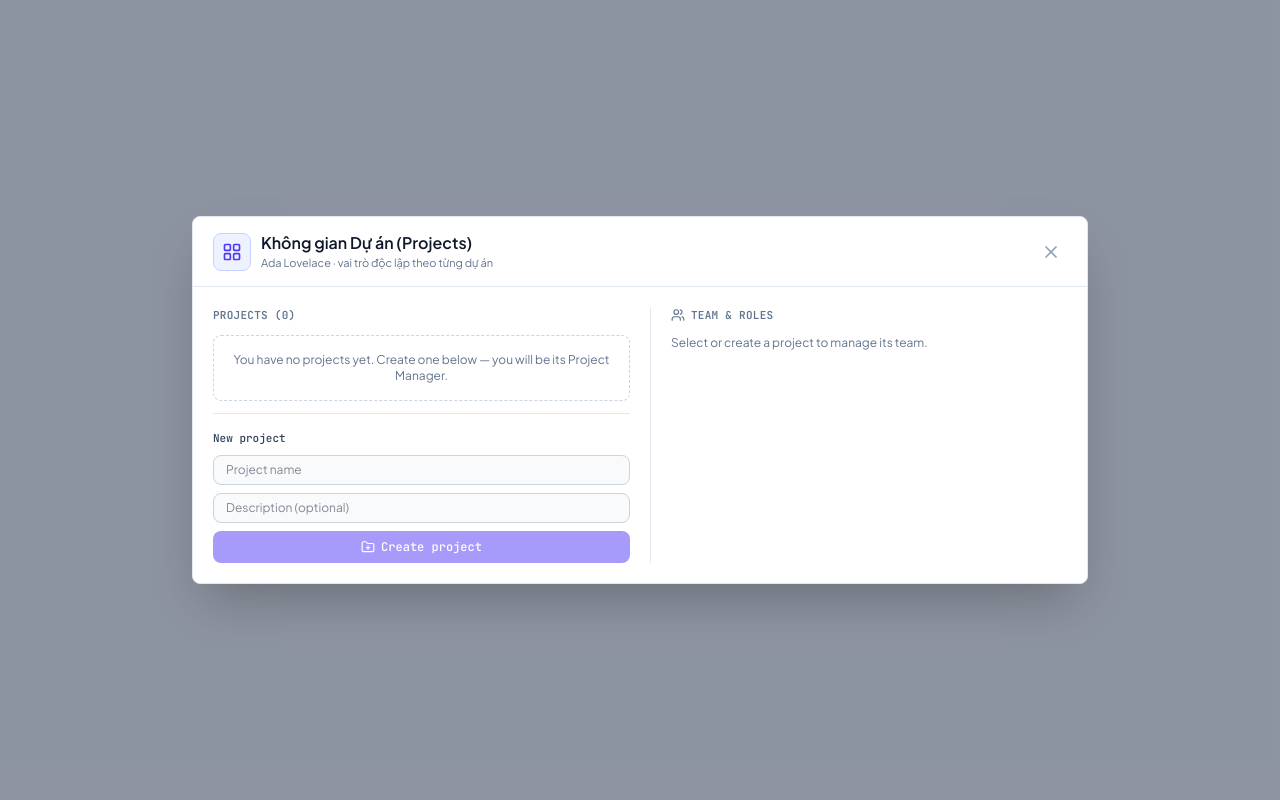
projects › creates a project and selects it
Type "Orion" into the field with id "new-project-name" at (422, 470), box [213,455,630,485]
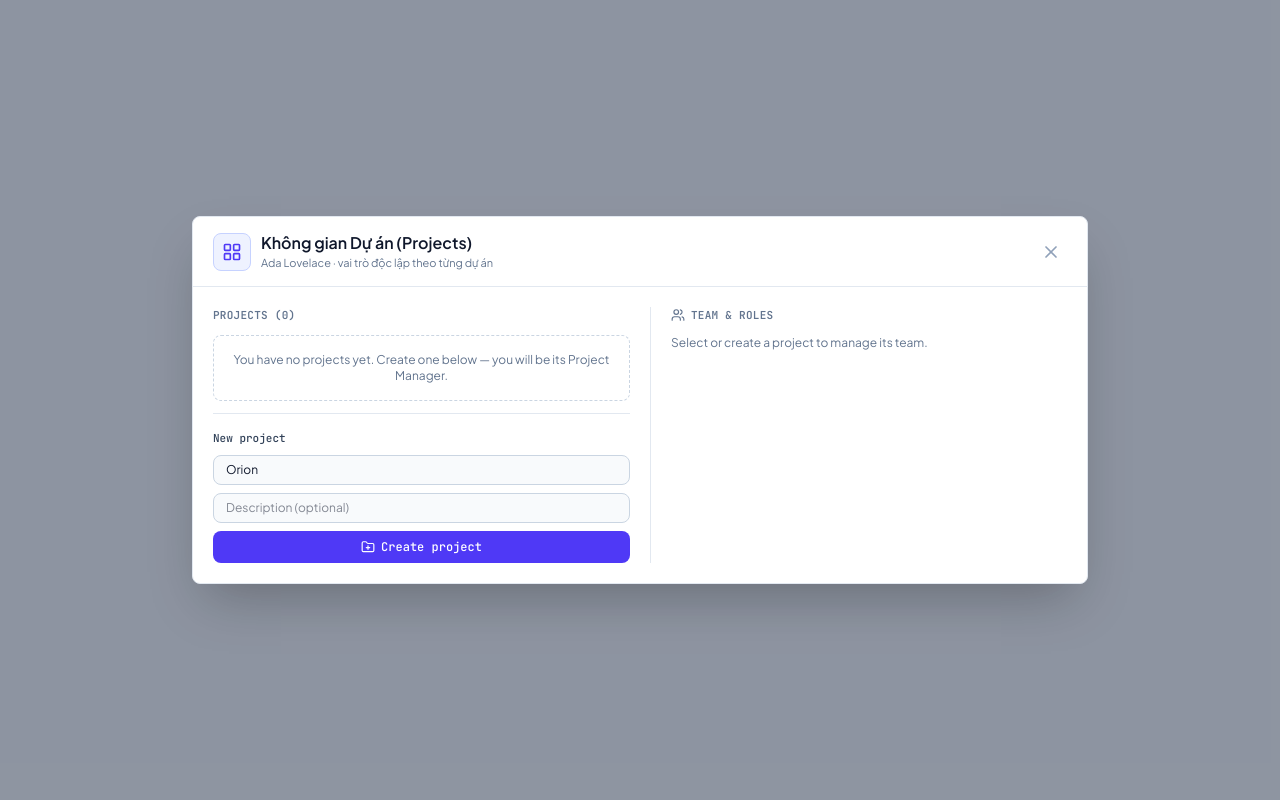
Submit the form, box [213,413,630,563]
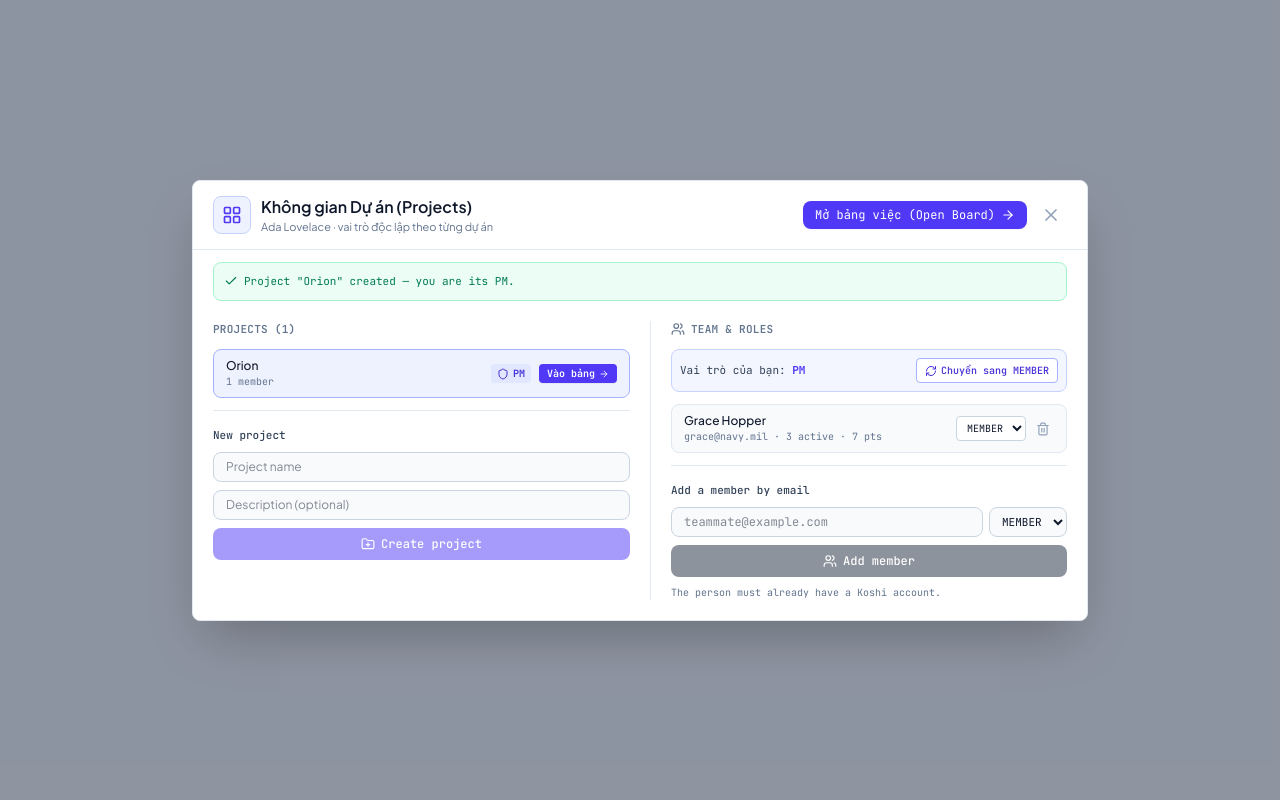
expect the text "you are its PM" is shown: met, box [244,274,515,288]
